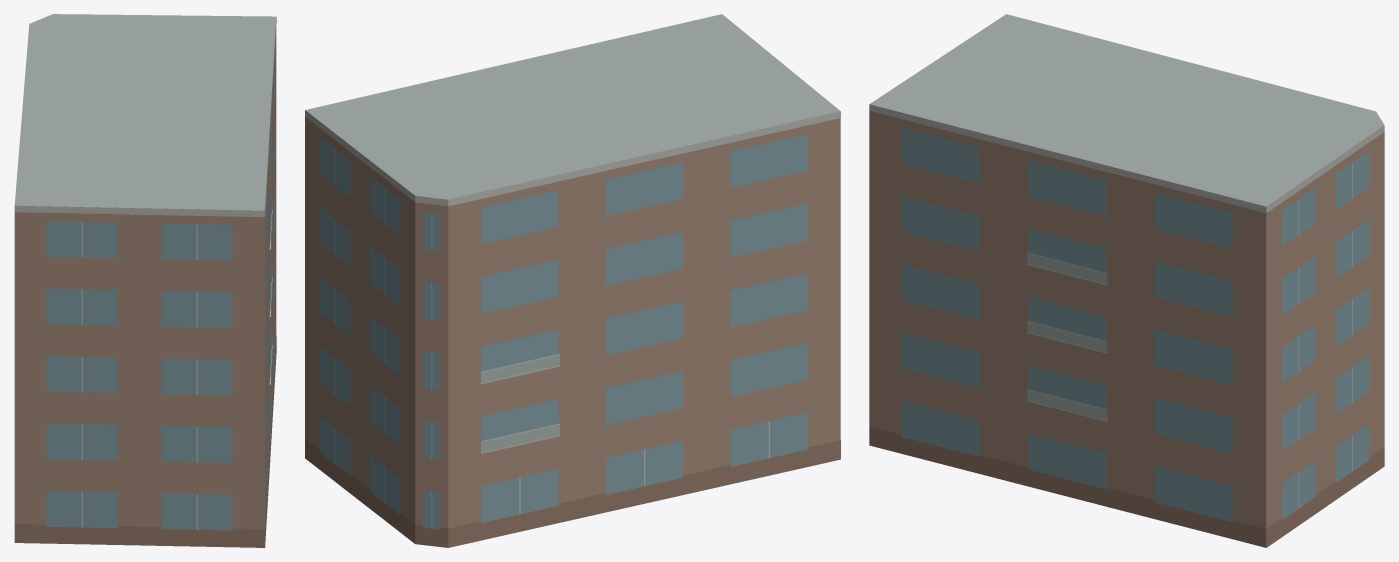
Rendered from survey-upis-32927663.glb.
The picture shows the model from 3 angles, left to right: view 1: azimuth 30°, elevation 25°; view 2: azimuth 150°, elevation 25°; view 3: azimuth 270°, elevation 25°; orthographic projection. The views are drawn at different scales.
Visible parts, largest first — view 1: survey-upis-32927663.tmp; view 2: survey-upis-32927663.tmp; view 3: survey-upis-32927663.tmp.
Boxes of the visible parts, left/top/right/bottom form: survey-upis-32927663.tmp: left=14, top=14, right=276, bottom=547; survey-upis-32927663.tmp: left=305, top=14, right=840, bottom=547; survey-upis-32927663.tmp: left=869, top=14, right=1384, bottom=547.
Bounding box in the file's own units: 15.39 × 12.7 × 17.39.
